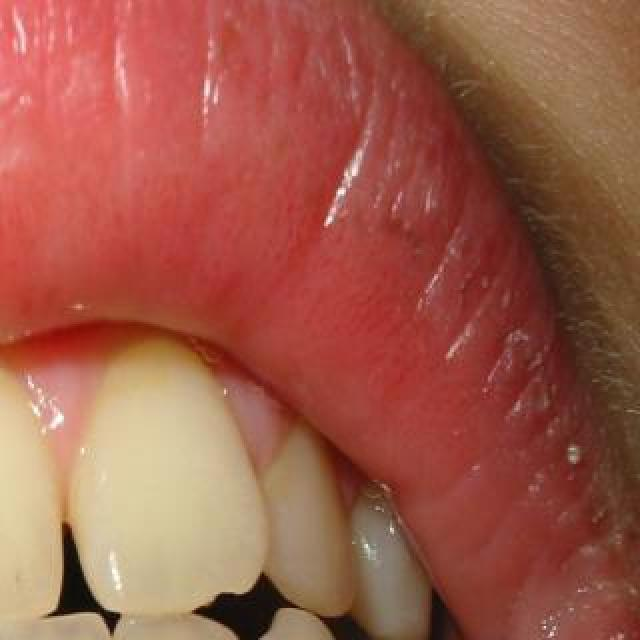maligned: (73, 354, 249, 600), (257, 411, 369, 617), (0, 366, 58, 632)
spacing: (25, 466, 113, 604)
